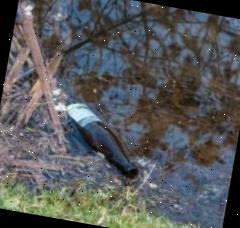glass: (48, 89, 154, 184)
